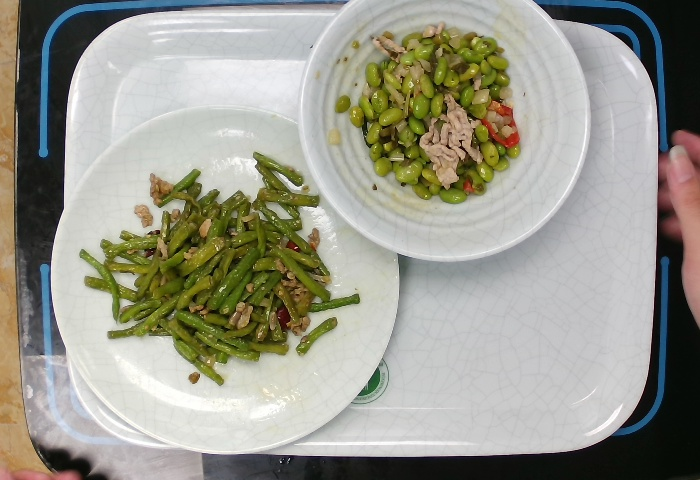JYsf-Da_Yuan_Pan: (49, 99, 412, 459)
JYsf-Xiao_Tang_Wan: (293, 1, 597, 268)
